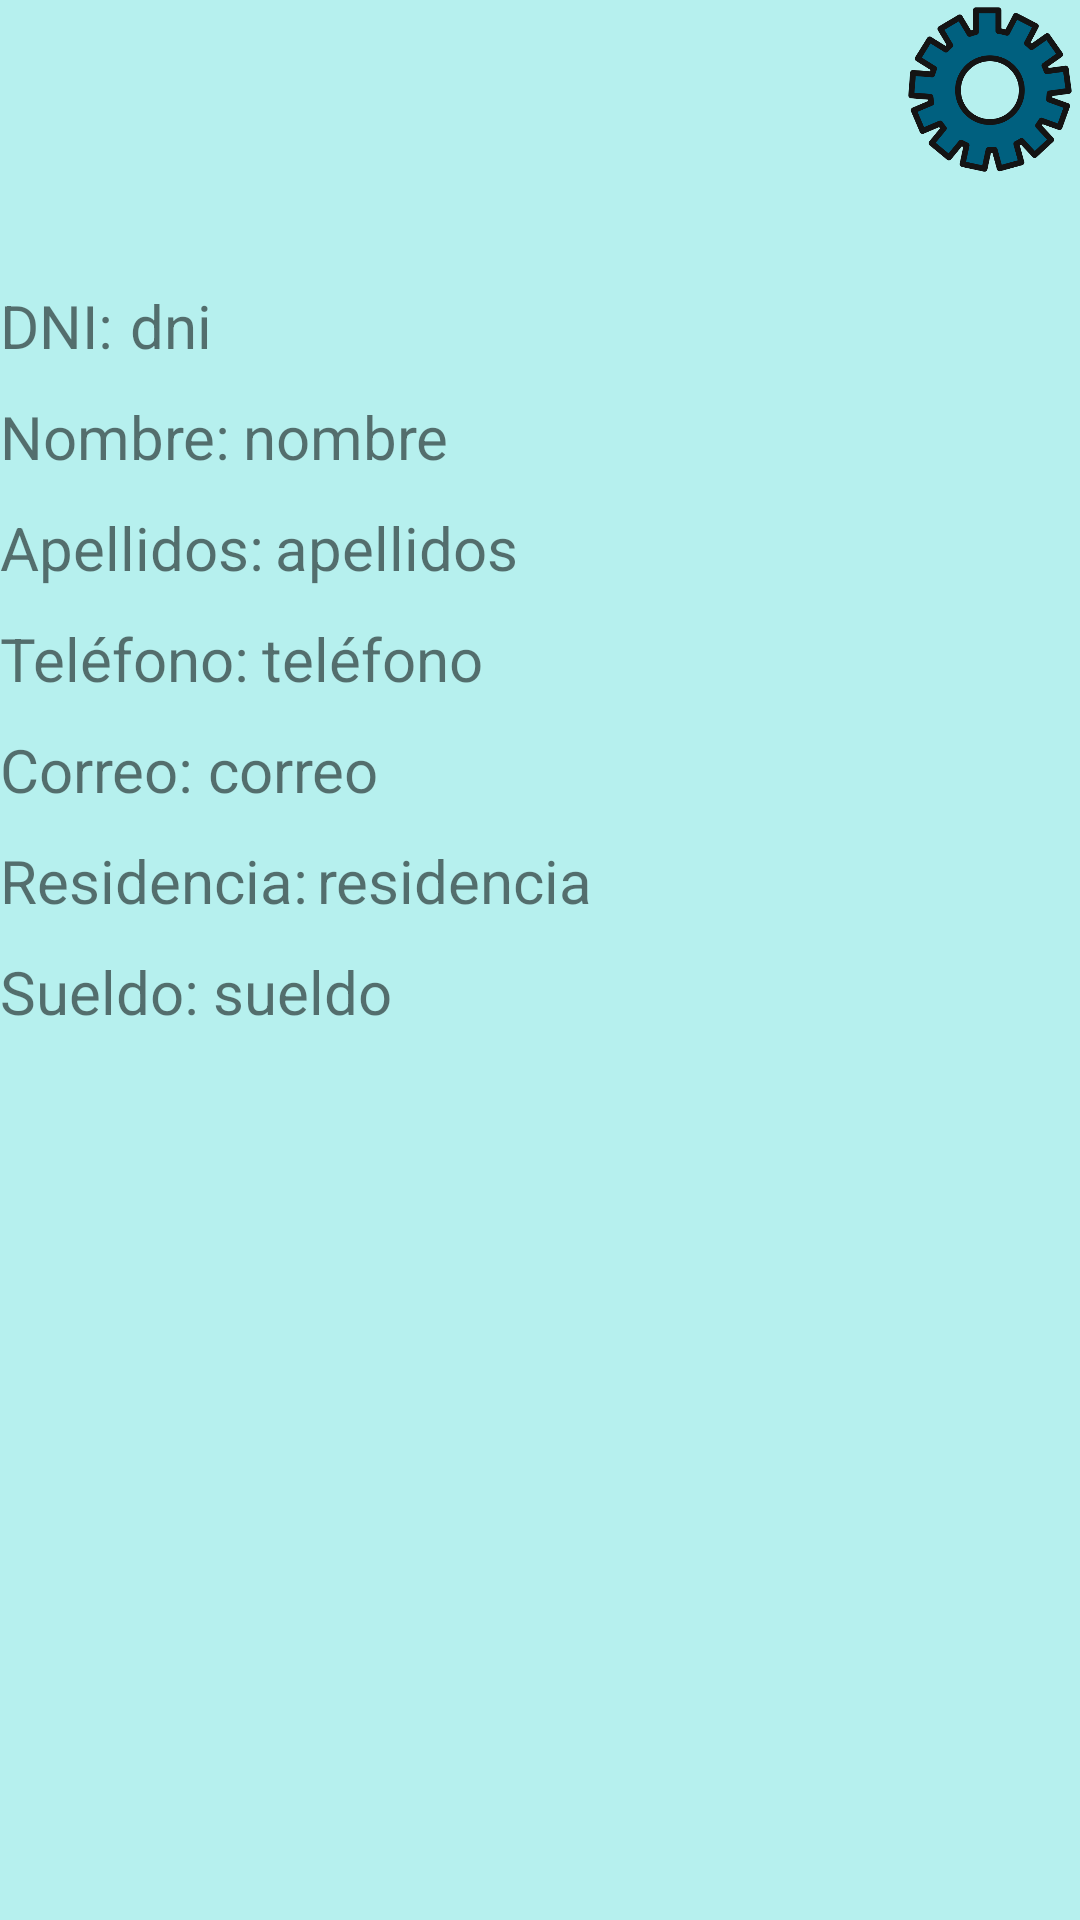

Where to tap for icons on this 1080x1920 app screen, as (x=x, y=y):
ajustes tienda mascotas: (x=990, y=89)
